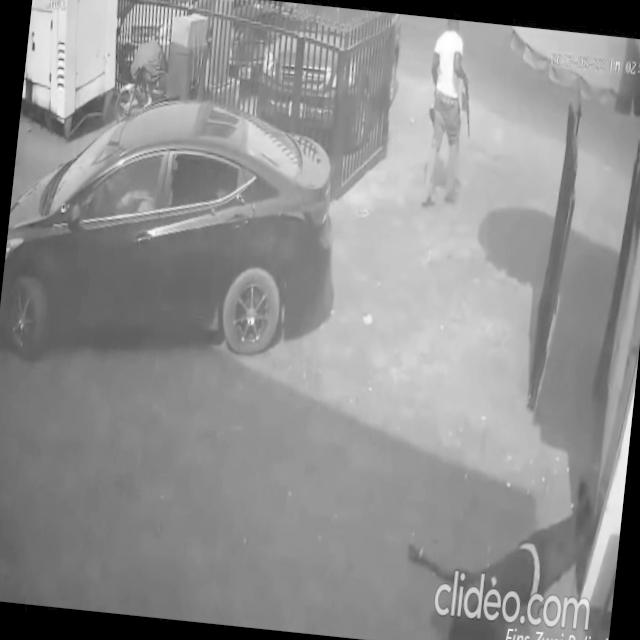gun: (456, 75, 477, 138)
person: (396, 459, 598, 640)
person with a gun: (416, 17, 484, 215)
